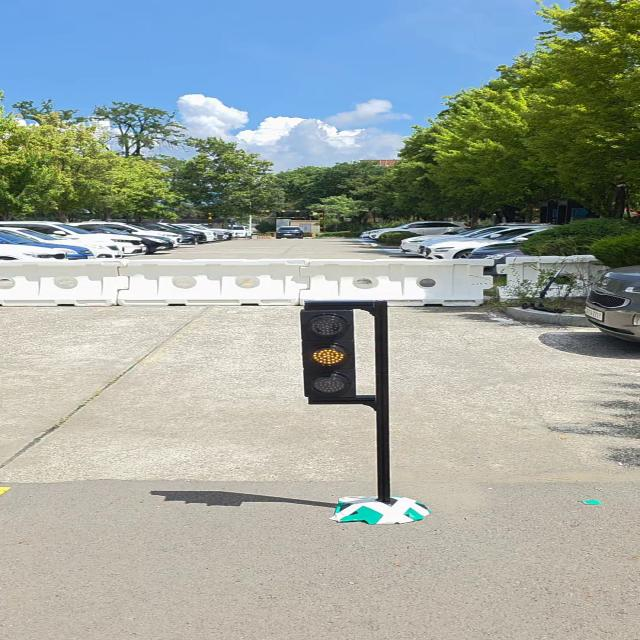yellow: (300, 309, 358, 400)
